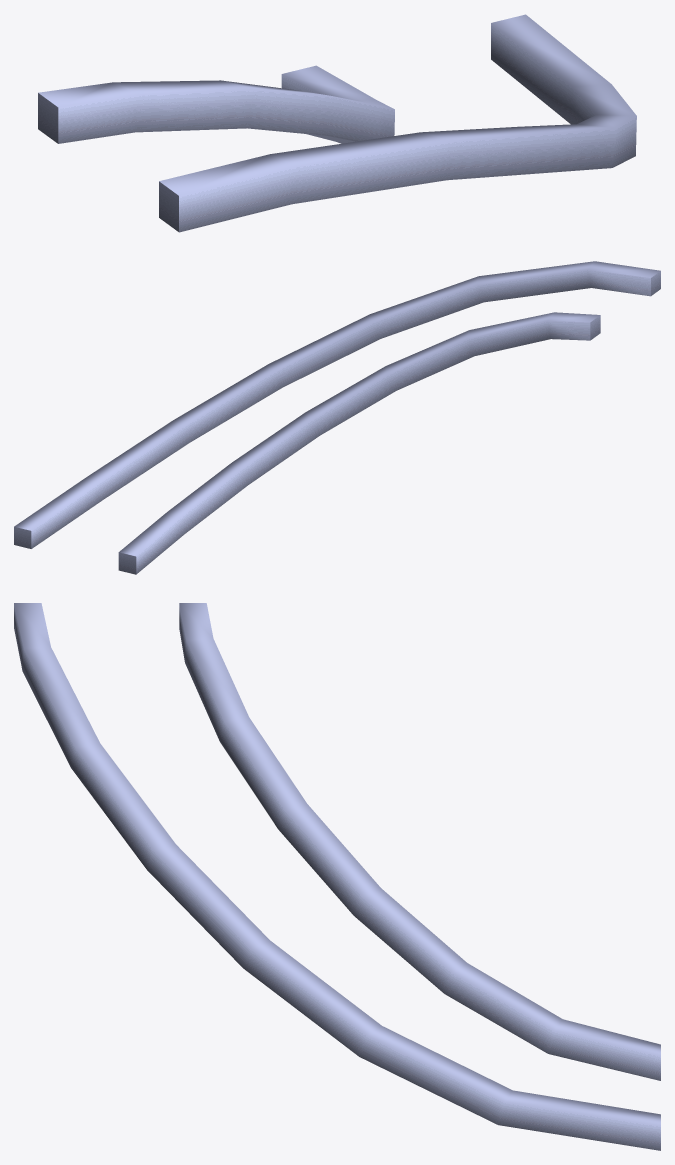
File: railroad-rail-corner-small-ramp.glb
3 views of the same model, one above another, from view 1: azimuth 30°, elevation 25°; view 2: azimuth 150°, elevation 25°; view 3: azimuth 270°, elevation 25° (orthographic). The views are drawn at different scales.
Parts seen in each view (by area): view 1: railroad-rail-corner-small-ramp; view 2: railroad-rail-corner-small-ramp; view 3: railroad-rail-corner-small-ramp.
Part boxes in pixels (x1,y1,x2,y2): railroad-rail-corner-small-ramp: (38,14,636,232); railroad-rail-corner-small-ramp: (14,261,660,574); railroad-rail-corner-small-ramp: (14,603,660,1150).
Size of the model in its own units: 2.35 by 1.1 by 2.35.
1 material, 1 textured.
